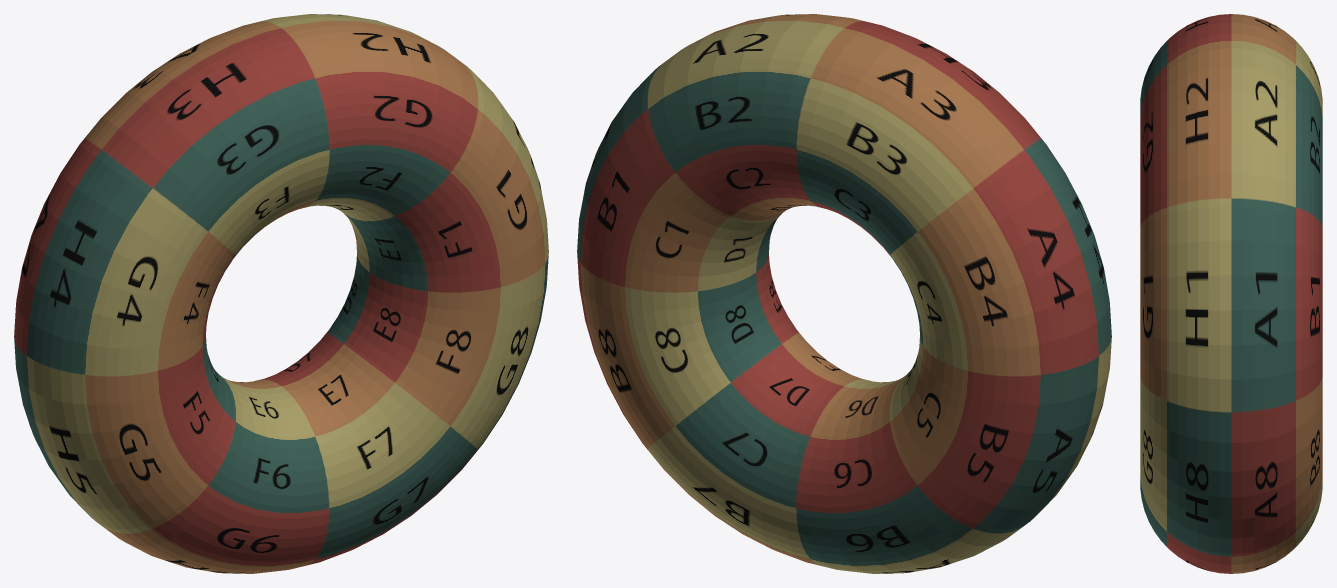
The model's file is texture_torus_R11_r24.glb.
3 renders of one model, left to right at view 1: azimuth 30°, elevation 25°; view 2: azimuth 150°, elevation 25°; view 3: azimuth 270°, elevation 25°, orthographic. The views are drawn at different scales.
Visible parts, largest first — view 1: world; view 2: world; view 3: world.
Boxes of the visible parts, left/top/right/bottom form: world: left=14, top=14, right=548, bottom=573; world: left=577, top=14, right=1111, bottom=573; world: left=1140, top=14, right=1322, bottom=573.
Bounding box in the file's own units: 25.73 × 25.68 × 8.38.
Materials: 1 (1 with a texture image).
